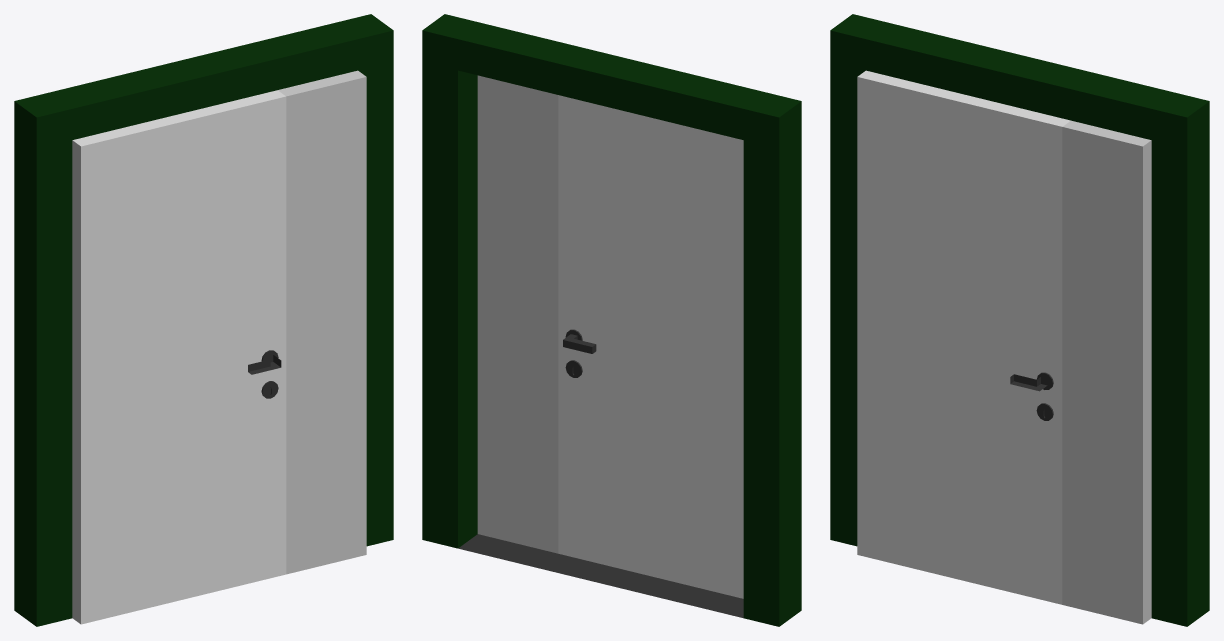
File: porta.fbx
3 views of the same model, side by side, from view 1: azimuth 30°, elevation 25°; view 2: azimuth 150°, elevation 25°; view 3: azimuth 330°, elevation 25° (orthographic).
Visible parts, largest first — view 1: PortaPrincipale, StrutturaPorta, PortaSecondaria; view 2: PortaPrincipale, StrutturaPorta, PortaSecondaria; view 3: PortaPrincipale, StrutturaPorta, PortaSecondaria.
Boxes of the visible parts, bbox=[...] form: PortaPrincipale: bbox=[72, 90, 286, 624]; StrutturaPorta: bbox=[14, 14, 393, 626]; PortaSecondaria: bbox=[278, 70, 366, 574]; PortaPrincipale: bbox=[558, 95, 743, 598]; StrutturaPorta: bbox=[422, 14, 801, 626]; PortaSecondaria: bbox=[477, 75, 558, 553]; PortaPrincipale: bbox=[857, 70, 1070, 604]; StrutturaPorta: bbox=[830, 14, 1209, 626]; PortaSecondaria: bbox=[1062, 120, 1151, 624].
Size of the model in its own units: 440 by 600 by 85.5.
